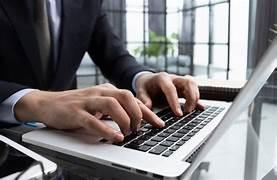keyboard: (99, 100, 231, 162)
